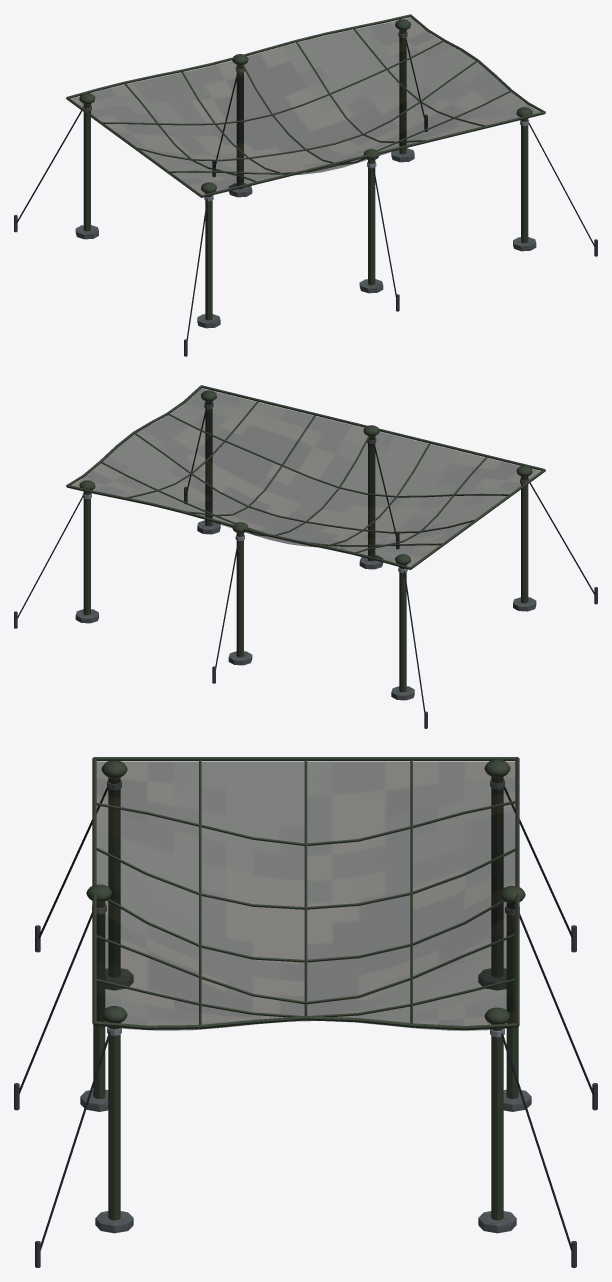
The model's file is fac_camonet.glb.
3 views of the same model, one above another, from view 1: azimuth 30°, elevation 25°; view 2: azimuth 150°, elevation 25°; view 3: azimuth 270°, elevation 25° (orthographic). The views are drawn at different scales.
Parts seen in each view (by area): view 1: FAC_CAMONET; view 2: FAC_CAMONET; view 3: FAC_CAMONET.
Part boxes in pixels (x1,y1,x2,y2): FAC_CAMONET: [14, 14, 597, 356]; FAC_CAMONET: [14, 385, 597, 728]; FAC_CAMONET: [14, 757, 597, 1267].
Size of the model in its own units: 14.92 by 4.96 by 11.59.
Materials: 6 (2 with a texture image).
